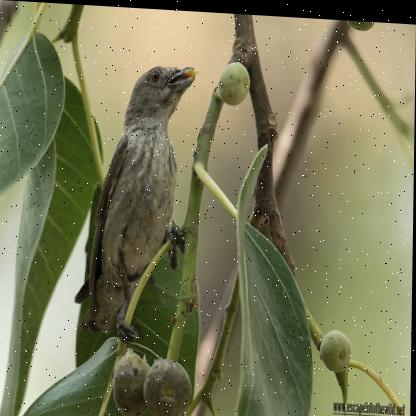Burung: (69, 53, 203, 348)
